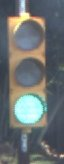Green: (5, 11, 47, 136)
